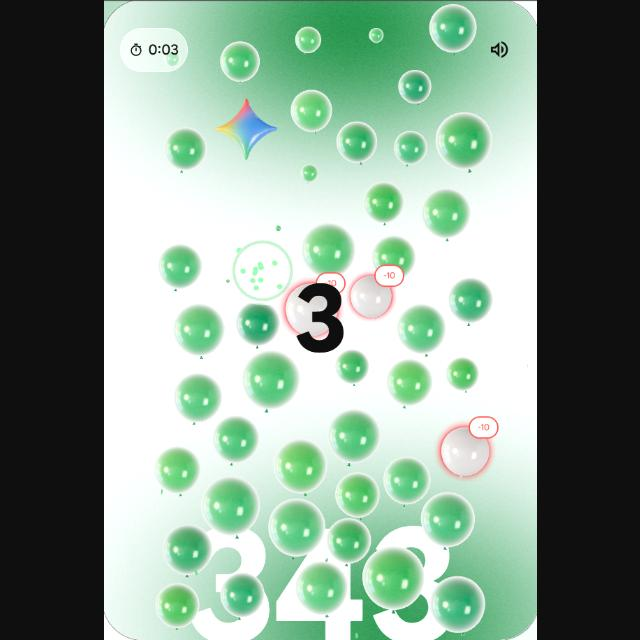gemini: (208, 97, 282, 161)
hazard: (284, 272, 346, 348), (436, 416, 502, 480), (350, 264, 404, 322)
safe: (361, 546, 423, 610), (202, 476, 258, 536), (268, 499, 324, 557), (436, 112, 492, 170), (429, 576, 485, 632), (420, 492, 474, 548), (242, 352, 296, 408), (294, 560, 346, 616), (273, 439, 325, 493), (328, 410, 378, 462), (172, 304, 222, 356), (300, 224, 352, 274), (162, 524, 210, 576), (172, 373, 220, 423), (421, 188, 469, 238), (428, 3, 476, 53), (396, 305, 444, 353), (383, 458, 429, 508), (334, 472, 380, 518), (386, 359, 432, 405), (218, 572, 264, 618), (154, 446, 198, 494), (212, 416, 256, 462), (326, 518, 370, 564), (448, 277, 492, 323), (154, 583, 198, 629), (157, 244, 200, 288), (290, 88, 332, 132), (235, 304, 278, 346), (163, 128, 204, 170), (219, 41, 259, 83), (371, 237, 414, 276), (336, 121, 376, 162), (362, 182, 402, 222), (392, 130, 426, 166), (334, 350, 368, 384), (397, 70, 431, 104), (445, 358, 477, 392), (294, 26, 320, 54), (368, 26, 382, 44), (302, 164, 316, 182), (164, 54, 178, 66)
